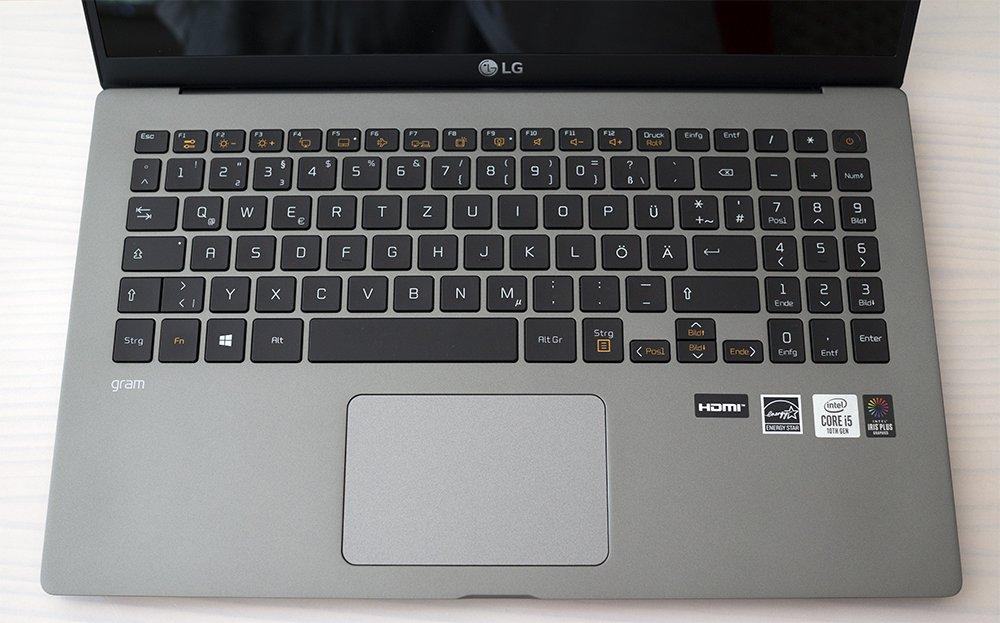0: (563, 152, 604, 187)
1: (162, 154, 202, 188)
2: (206, 154, 247, 188)
3: (250, 153, 291, 188)
4: (296, 153, 336, 188)
5: (340, 153, 380, 188)
6: (384, 153, 425, 187)
7: (429, 152, 468, 187)
8: (473, 152, 514, 187)
9: (518, 152, 558, 187)
a: (187, 232, 229, 269)
accent: (653, 152, 693, 187)
ae: (644, 231, 686, 268)
alt-left: (247, 315, 302, 361)
altgr-right: (521, 313, 575, 360)
b: (390, 272, 433, 309)
c: (298, 272, 341, 310)
caret: (128, 155, 159, 189)
comma: (530, 271, 572, 309)
d: (278, 231, 319, 269)
del: (696, 153, 751, 189)
e: (269, 192, 310, 228)
enter: (689, 231, 754, 268)
f: (324, 231, 365, 268)
g: (369, 231, 410, 268)
h: (415, 231, 456, 268)
hash: (721, 192, 753, 228)
i: (495, 191, 536, 226)
j: (461, 230, 502, 268)
k: (507, 231, 549, 268)
keyboard: (103, 119, 899, 371)
l: (552, 230, 594, 268)
less: (159, 273, 204, 310)
m: (483, 271, 526, 310)
minus: (622, 272, 665, 310)
n: (436, 272, 480, 310)
o: (540, 191, 582, 227)
oe: (598, 231, 640, 268)
p: (586, 191, 627, 227)
plus: (676, 191, 718, 227)
point: (576, 272, 619, 309)
q: (179, 192, 221, 228)
r: (314, 192, 355, 227)
s: (233, 232, 274, 269)
shift-left: (114, 274, 158, 311)
shift-lock: (119, 233, 185, 270)
shift-right: (669, 272, 758, 311)
space: (306, 314, 517, 361)
ss: (608, 152, 649, 187)
strg-left: (110, 315, 154, 361)
strg-right: (579, 314, 624, 361)
t: (360, 191, 400, 227)
tab: (123, 193, 176, 229)
u: (450, 191, 491, 227)
ue: (631, 191, 672, 227)
v: (344, 272, 387, 310)
w: (224, 192, 265, 228)
x: (253, 272, 295, 310)
y: (207, 273, 249, 310)
z: (404, 191, 446, 227)
